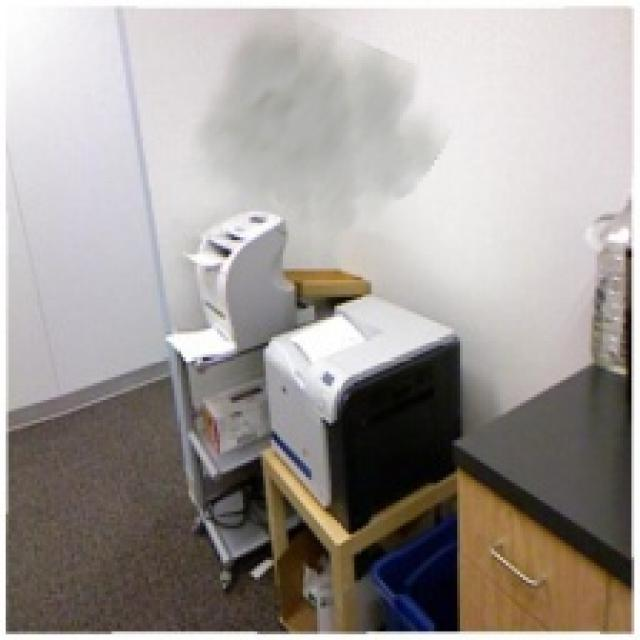smoke: (183, 3, 457, 243)
